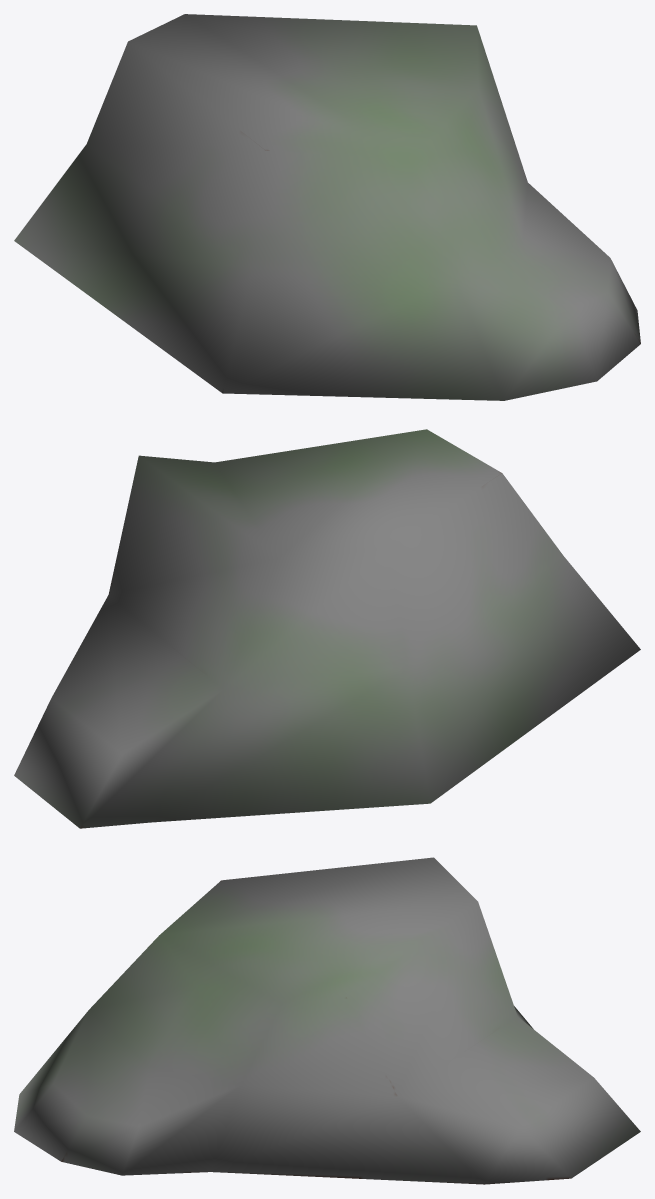
Rendered from stone.fbx.
The picture shows the model from 3 angles, top to bottom: view 1: azimuth 30°, elevation 25°; view 2: azimuth 150°, elevation 25°; view 3: azimuth 270°, elevation 25°; orthographic projection. The views are drawn at different scales.
Visible parts, largest first — view 1: Island1.003; view 2: Island1.003; view 3: Island1.003.
Part boxes in pixels (x1=…): Island1.003: x1=14, y1=14, x2=640, y2=400; Island1.003: x1=14, y1=429, x2=640, y2=828; Island1.003: x1=14, y1=857, x2=640, y2=1184.
Size of the model in its own units: 77.89 by 43.52 by 123.
Materials: 1 (1 with a texture image).
